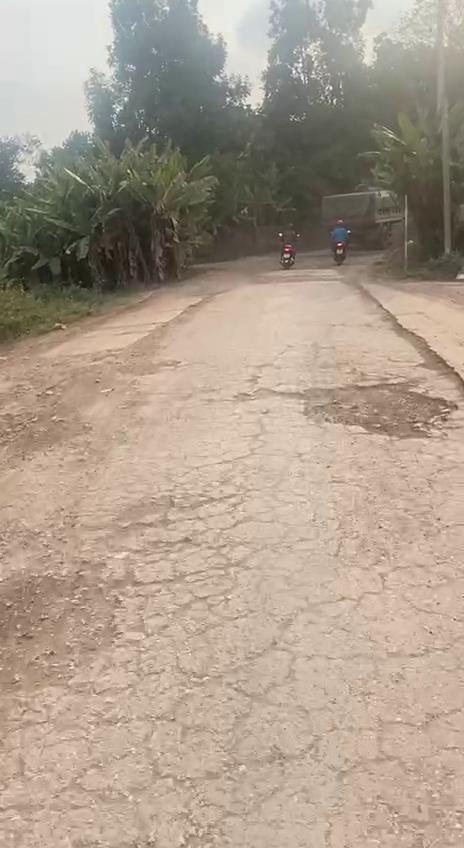pothole: (294, 382, 460, 440)
